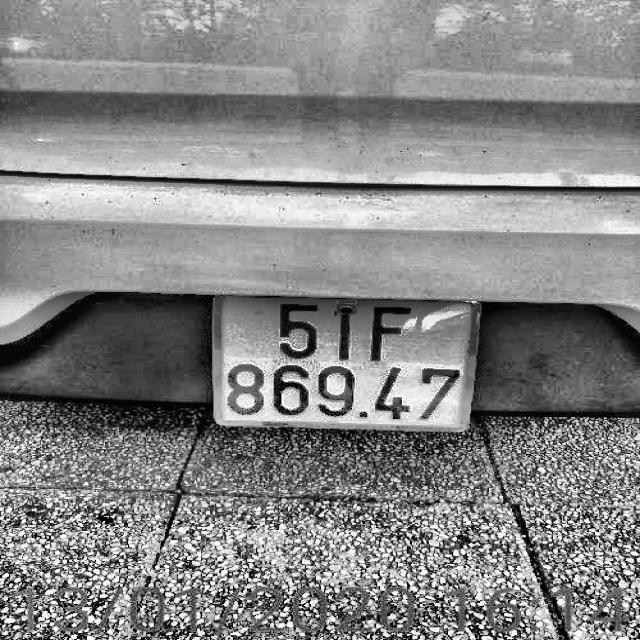plate: (195, 293, 492, 432)
